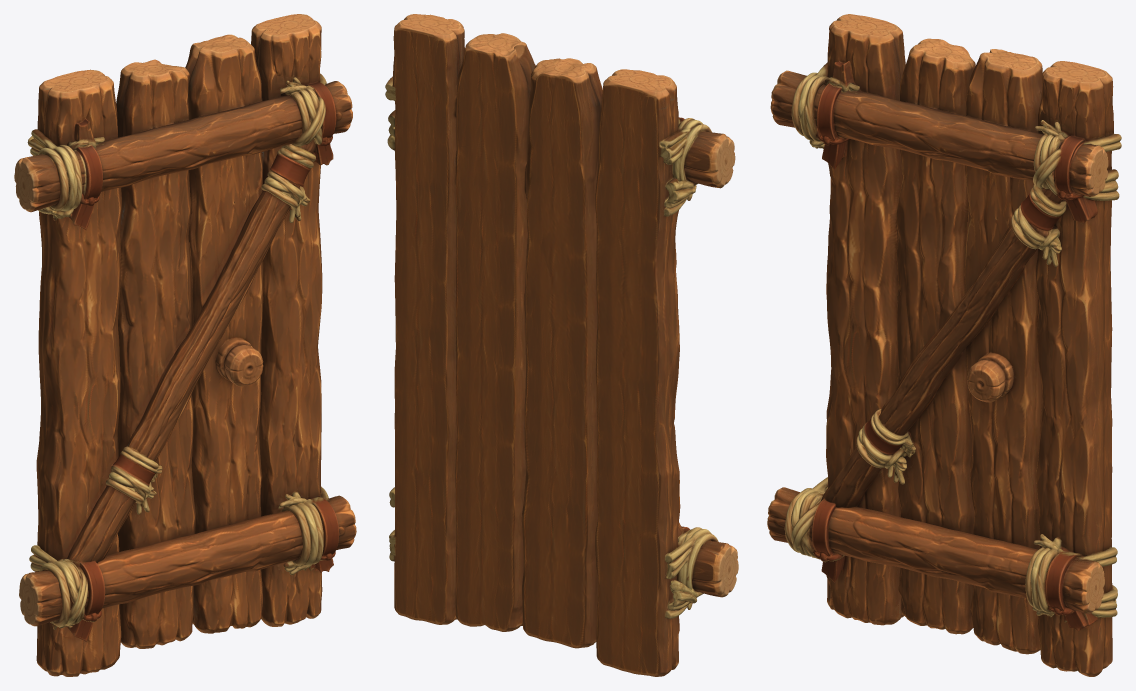
The model's file is Holztuer.glb.
3 renders of one model, left to right at view 1: azimuth 30°, elevation 25°; view 2: azimuth 150°, elevation 25°; view 3: azimuth 330°, elevation 25°, orthographic.
Bounding box in the file's own units: 1.08 × 1.9 × 0.2746.
1 material, 1 textured.
